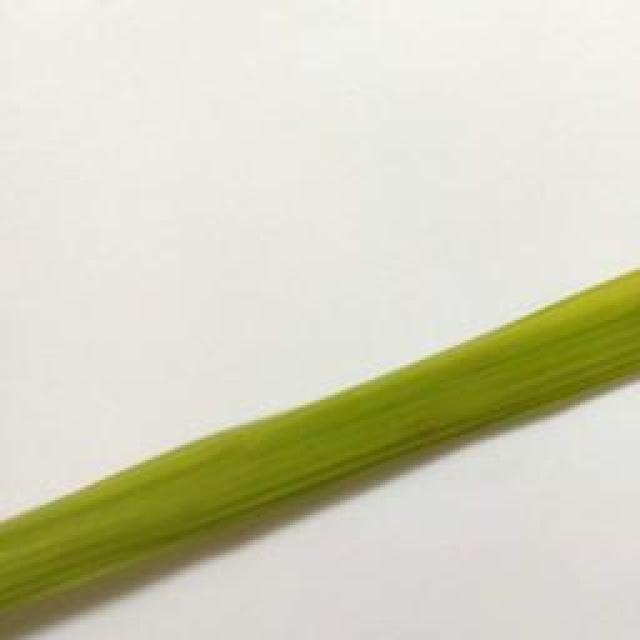Healthy-Plant: (502, 268, 637, 437), (126, 422, 256, 597), (0, 470, 126, 640), (258, 376, 380, 543), (380, 325, 502, 485)
